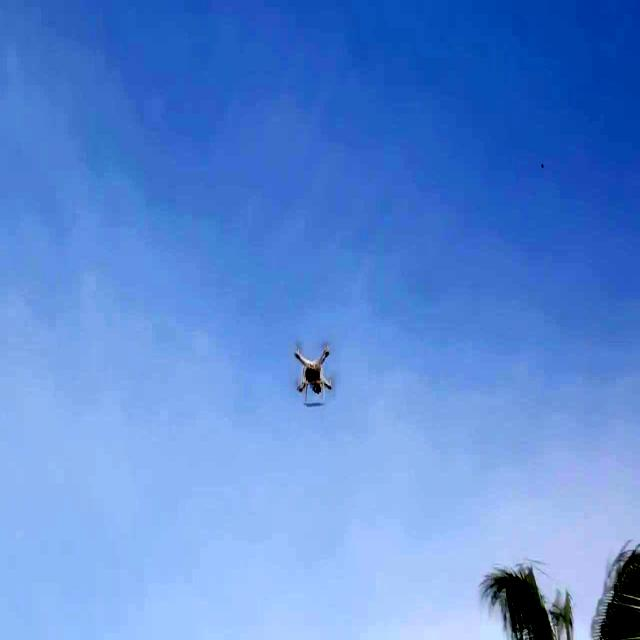drone: (293, 338, 335, 412)
